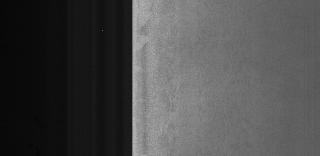silk spot: (163, 26, 189, 146)
